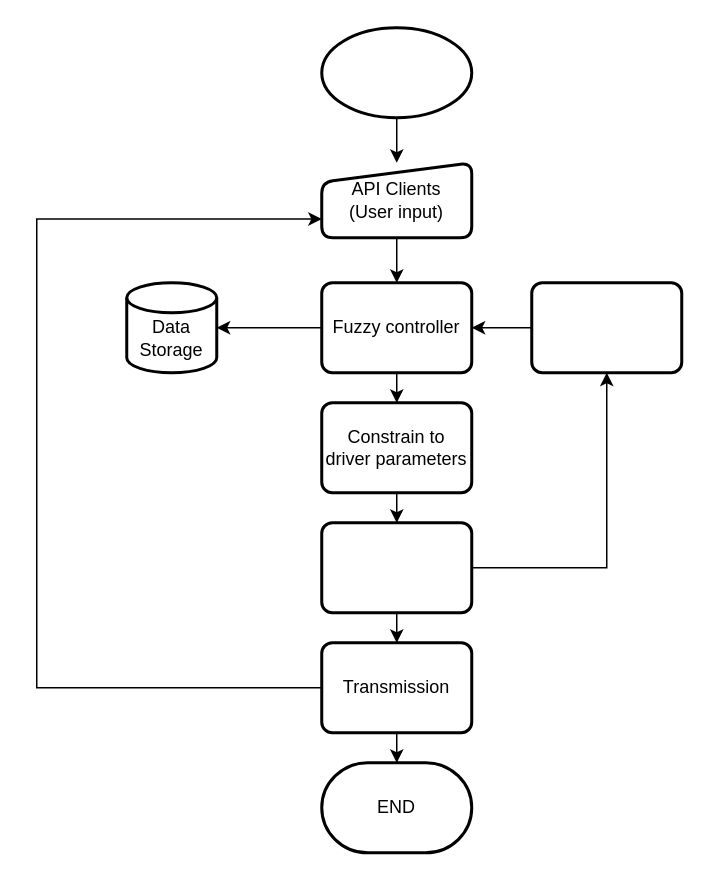
Some shapes in this 710 by 879 pixel diagram are drawn without their labels. The centre of each missing label's shape, as x and y in pixels:
Actuator: pixel 396 567
Sensor input (IMU, Voltage): pixel 606 327
START: pixel 396 72
